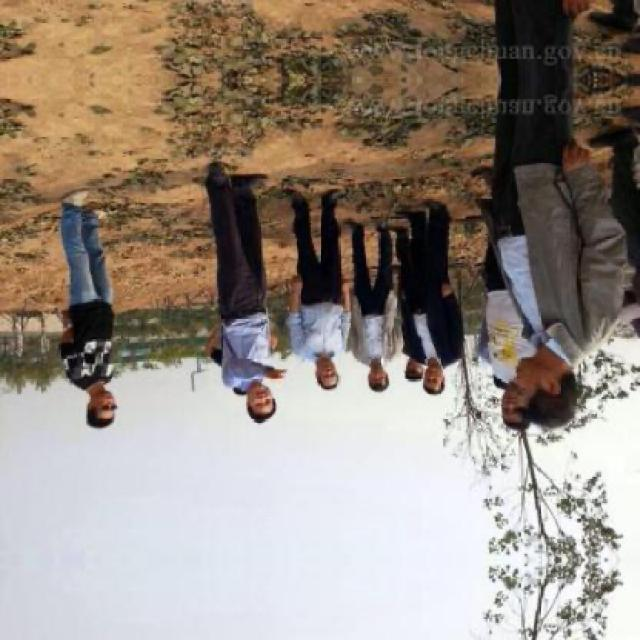sin casco: (35, 371, 129, 459), (518, 345, 589, 430), (235, 354, 299, 436), (393, 344, 452, 416), (293, 347, 337, 389), (349, 360, 390, 404)
